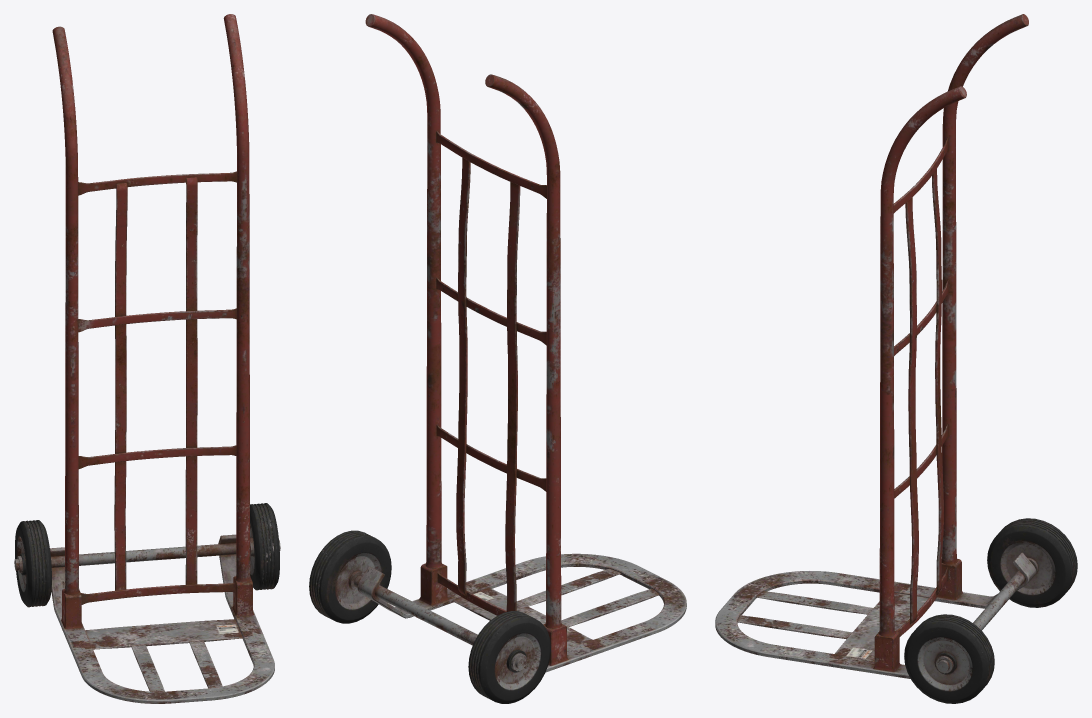
The model's file is hand_truck.glb.
3 views of the same model, side by side, from view 1: azimuth 30°, elevation 25°; view 2: azimuth 150°, elevation 25°; view 3: azimuth 270°, elevation 25° (orthographic). The views are drawn at different scales.
Visible parts, largest first — view 1: hand_truck; view 2: hand_truck; view 3: hand_truck.
Part boxes in pixels (x1,y1,x2,y2): hand_truck: (14,14,280,703); hand_truck: (309,14,686,703); hand_truck: (715,14,1077,703).
Size of the model in its own units: 0.6602 by 1.4 by 0.768.
Materials: 1 (1 with a texture image).
